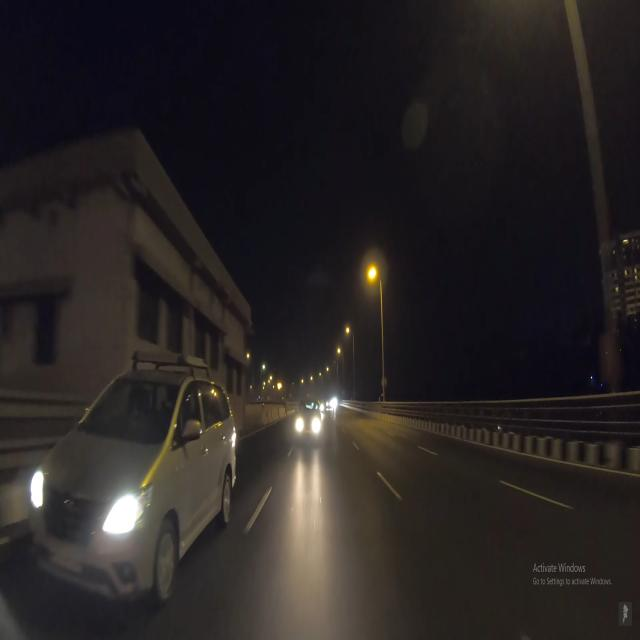headlights: (19, 454, 155, 574), (292, 409, 327, 441)
